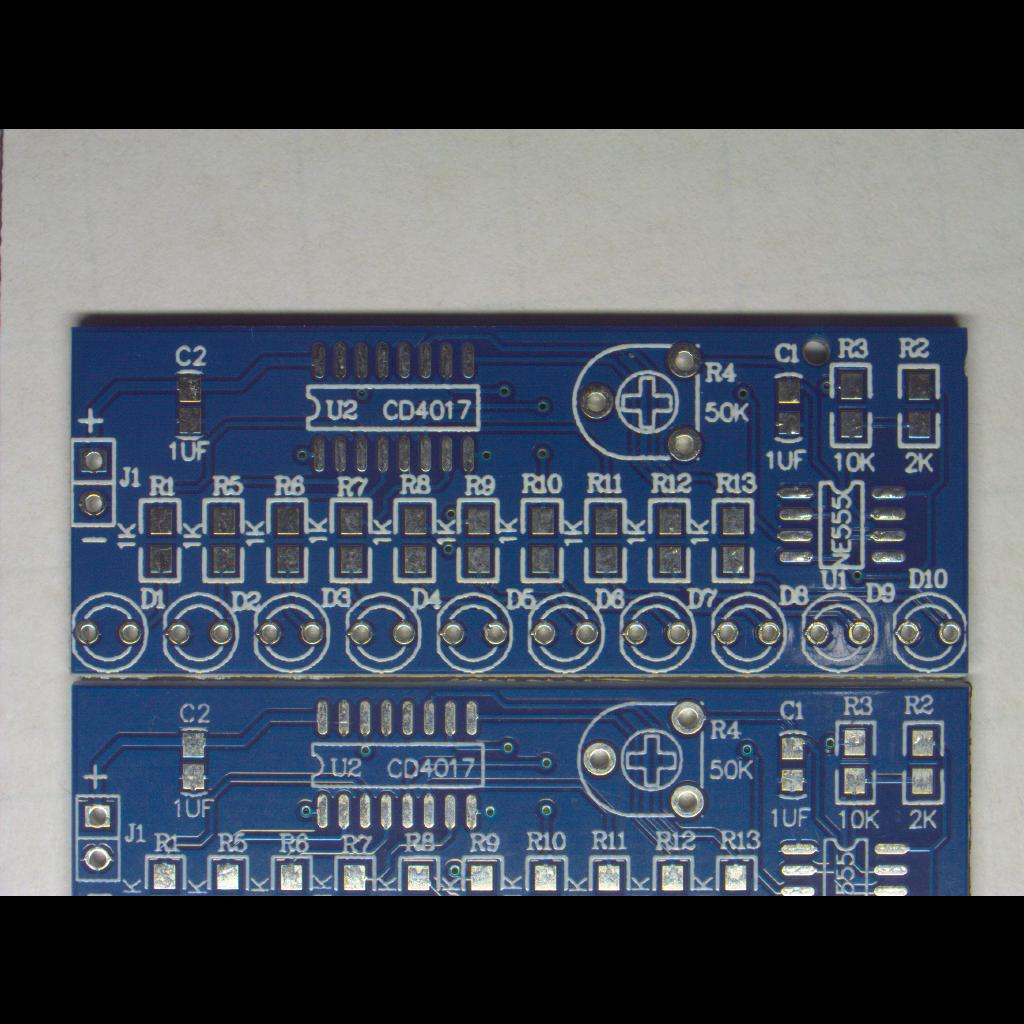NG: (296, 688, 496, 844), (302, 330, 490, 488), (770, 470, 918, 578), (824, 356, 880, 454), (452, 490, 506, 590), (642, 492, 696, 588), (706, 492, 760, 588), (894, 358, 946, 456), (262, 492, 314, 588), (326, 492, 378, 588), (517, 493, 569, 589), (390, 493, 442, 587), (831, 715, 881, 811), (134, 494, 184, 586), (580, 494, 630, 586), (200, 493, 248, 587), (899, 716, 947, 808), (168, 363, 216, 451), (172, 720, 218, 806), (768, 366, 814, 448), (772, 724, 814, 808)
